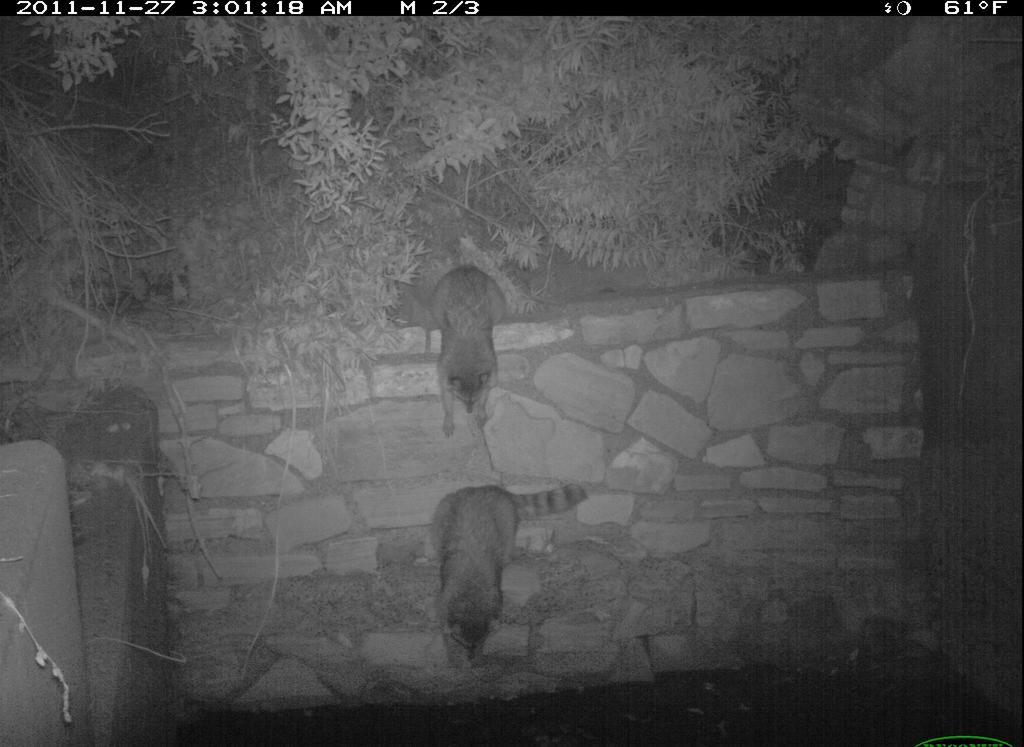raccoon: (422, 474, 598, 676), (420, 249, 528, 442)
